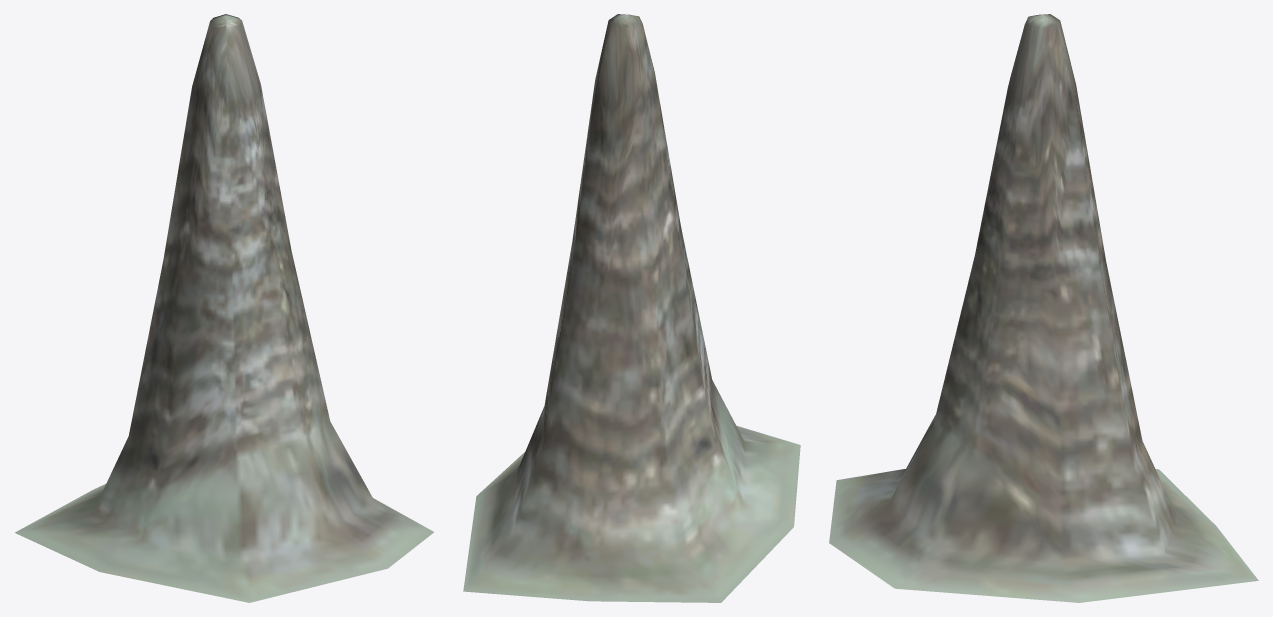
The model's file is TROLLHOLE02_PS-MAINSTALAG53.fbx.
The picture shows the model from 3 angles, left to right: view 1: azimuth 30°, elevation 25°; view 2: azimuth 150°, elevation 25°; view 3: azimuth 270°, elevation 25°; orthographic projection. The views are drawn at different scales.
Parts seen in each view (by area): view 1: TROLLHOLE02_PS-MAINSTALAG53; view 2: TROLLHOLE02_PS-MAINSTALAG53; view 3: TROLLHOLE02_PS-MAINSTALAG53.
Boxes of the visible parts, x1=… form: TROLLHOLE02_PS-MAINSTALAG53: x1=15, y1=14, x2=433, y2=602; TROLLHOLE02_PS-MAINSTALAG53: x1=463, y1=14, x2=800, y2=602; TROLLHOLE02_PS-MAINSTALAG53: x1=829, y1=14, x2=1258, y2=602.
Size of the model in its own units: 26107 by 45143 by 32814.
Materials: 1 (1 with a texture image).
